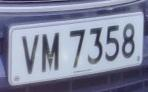3: (85, 24, 105, 69)
5: (103, 22, 123, 66), (103, 21, 121, 63)
7: (67, 24, 89, 74)
8: (120, 19, 138, 61)
M: (39, 30, 63, 77)
V: (20, 31, 41, 79)
